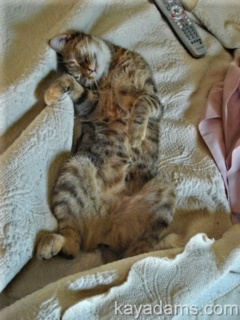Cat: (35, 29, 175, 264)
